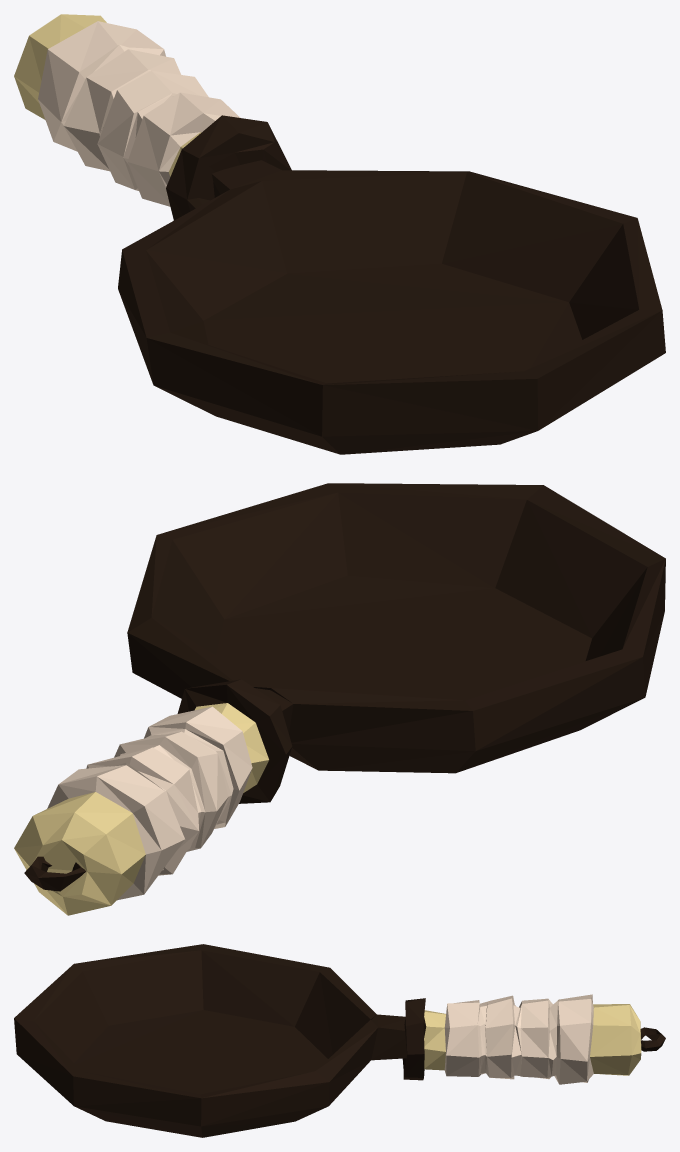
Rendered from FryingPan_pivotchanged.fbx.
The picture shows the model from 3 angles, top to bottom: view 1: azimuth 30°, elevation 25°; view 2: azimuth 150°, elevation 25°; view 3: azimuth 270°, elevation 25°; orthographic projection. The views are drawn at different scales.
Visible parts, largest first — view 1: AWS_Frying_Pan_004; view 2: AWS_Frying_Pan_004; view 3: AWS_Frying_Pan_004.
Part boxes in pixels (x1=…): AWS_Frying_Pan_004: x1=14, y1=14, x2=665, y2=454; AWS_Frying_Pan_004: x1=14, y1=483, x2=665, y2=915; AWS_Frying_Pan_004: x1=14, y1=944, x2=665, y2=1137.
Bounding box in the file's own units: 28.01 × 49.7 × 7.28.
